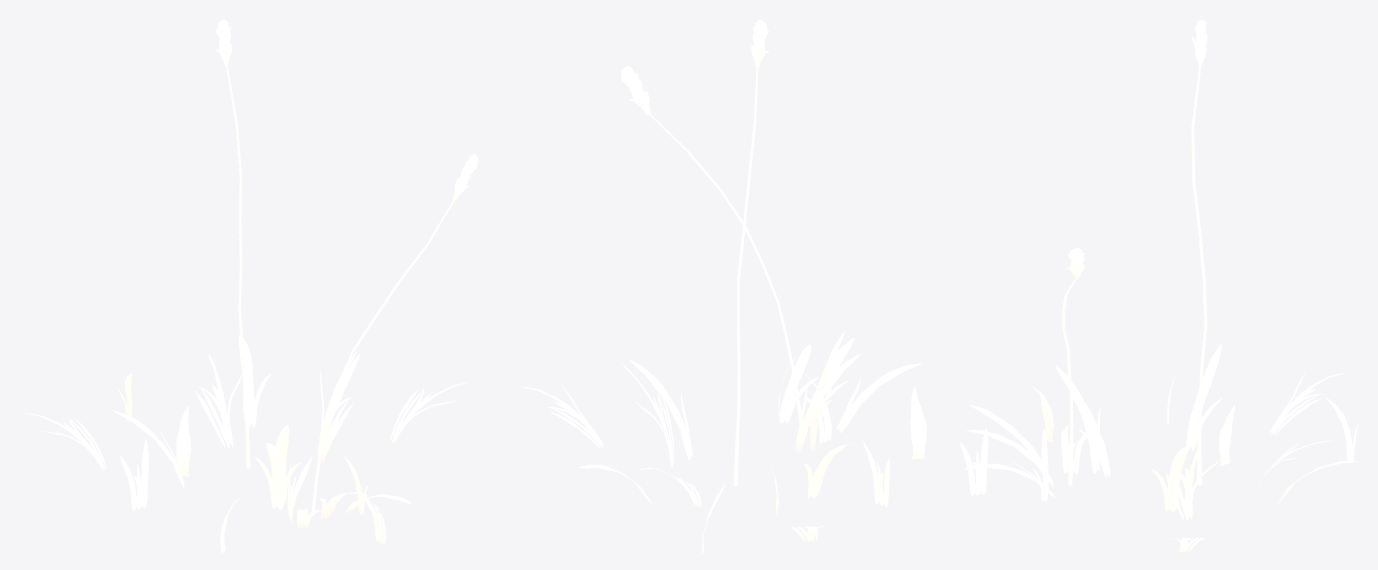
3 renders of one model, left to right at view 1: azimuth 30°, elevation 25°; view 2: azimuth 150°, elevation 25°; view 3: azimuth 270°, elevation 25°, orthographic. The views are drawn at different scales.
Visible parts, largest first — view 1: SM_Sedge_05_LOD0; view 2: SM_Sedge_05_LOD0; view 3: SM_Sedge_05_LOD0.
Boxes of the visible parts, x1,y1,x2,y2 form: SM_Sedge_05_LOD0: [24, 19, 477, 553]; SM_Sedge_05_LOD0: [520, 20, 926, 553]; SM_Sedge_05_LOD0: [959, 19, 1358, 553].
Size of the model in its own units: 0.8576 by 0.989 by 0.7832.
1 material, 1 textured.
